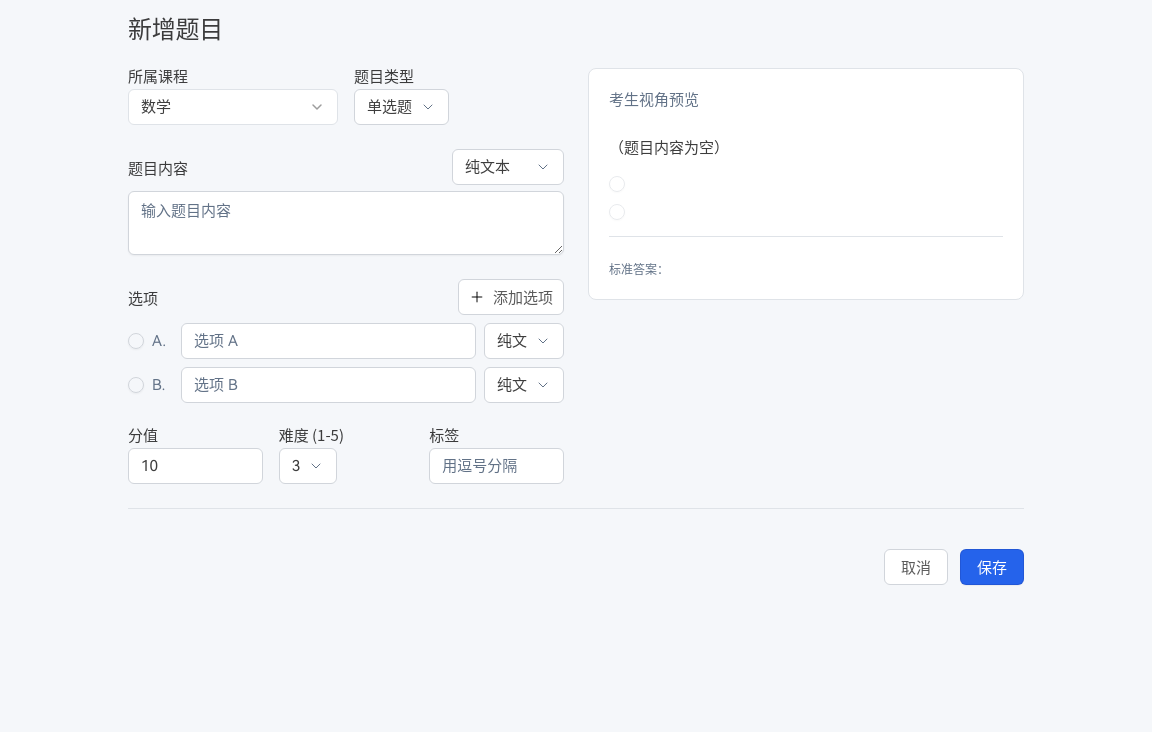
Test: QuestionEditPage — text_response authoring › text_response → single_choice: does not carry reference answer as objective answer
Click the dropdown named "题目类型". click: (402, 107)
box: [354, 89, 449, 125]
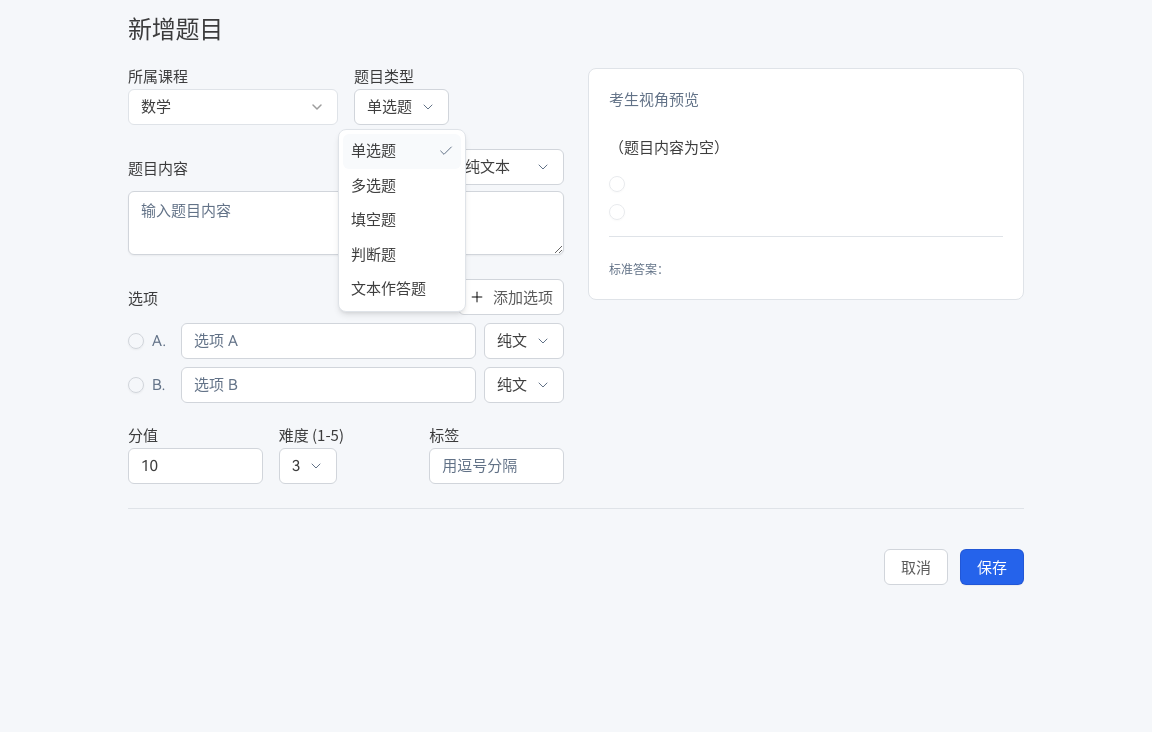
Click the option "文本作答题". click: (388, 289)
box: [351, 280, 426, 298]
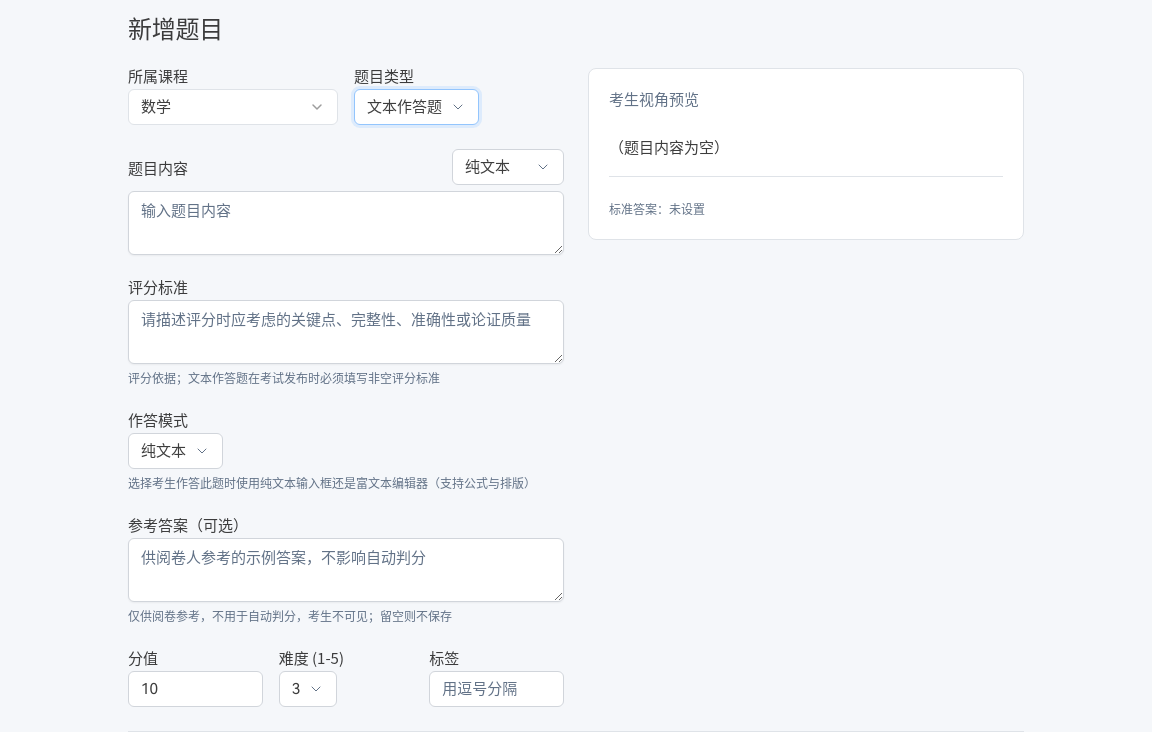
Type "参考答案文本" into the text box with placeholder "供阅卷人参考的示例答案，不影响自动判分". click: (346, 570)
box: [128, 538, 564, 602]
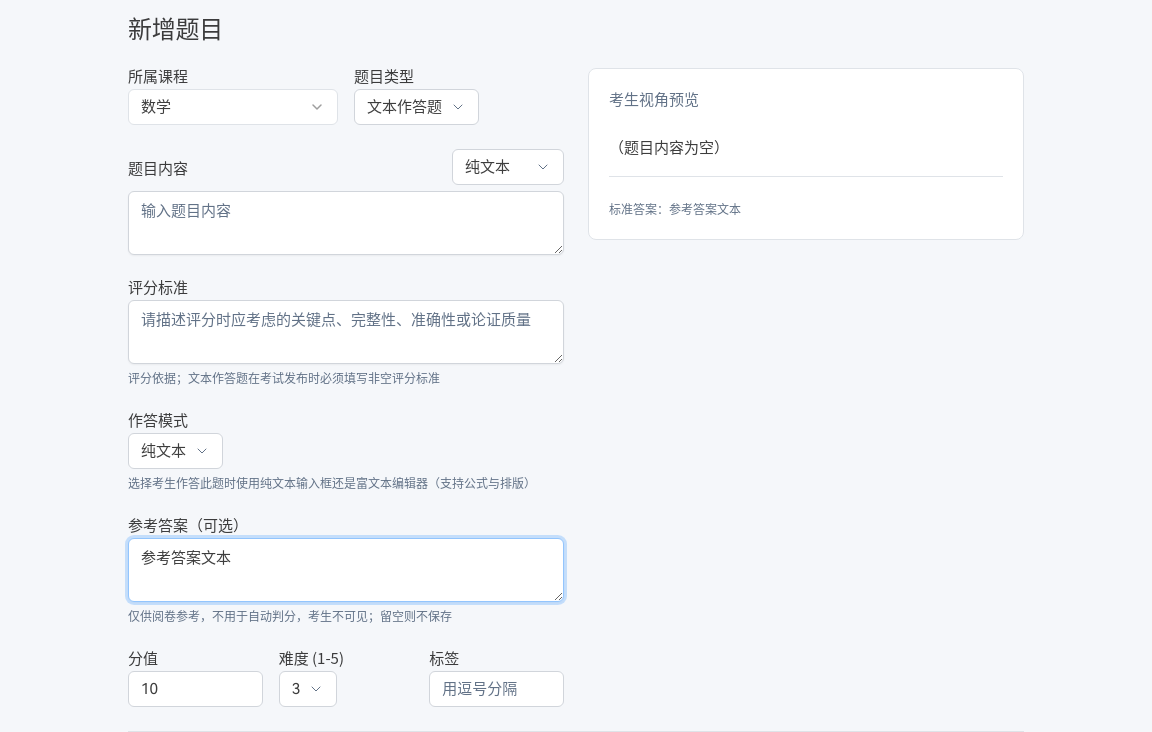
Click the dropdown named "题目类型". click: (416, 107)
box: [354, 89, 479, 125]
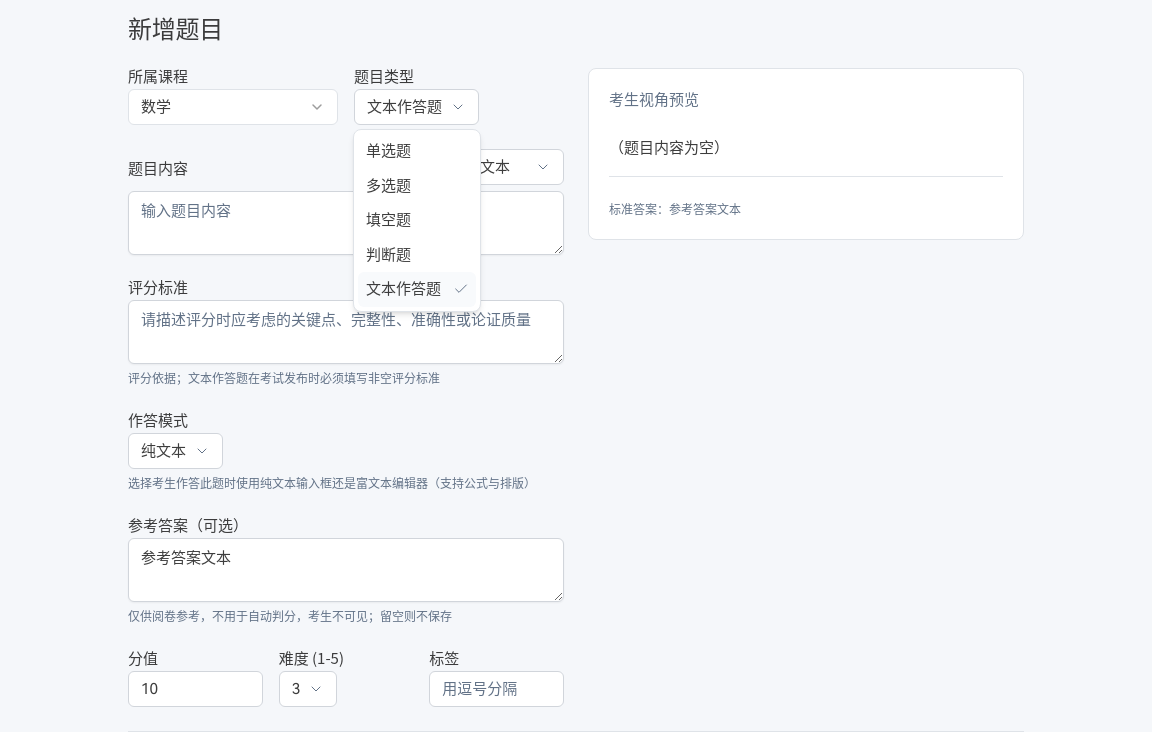
Click the option "单选题". click: (388, 151)
box: [366, 142, 411, 160]
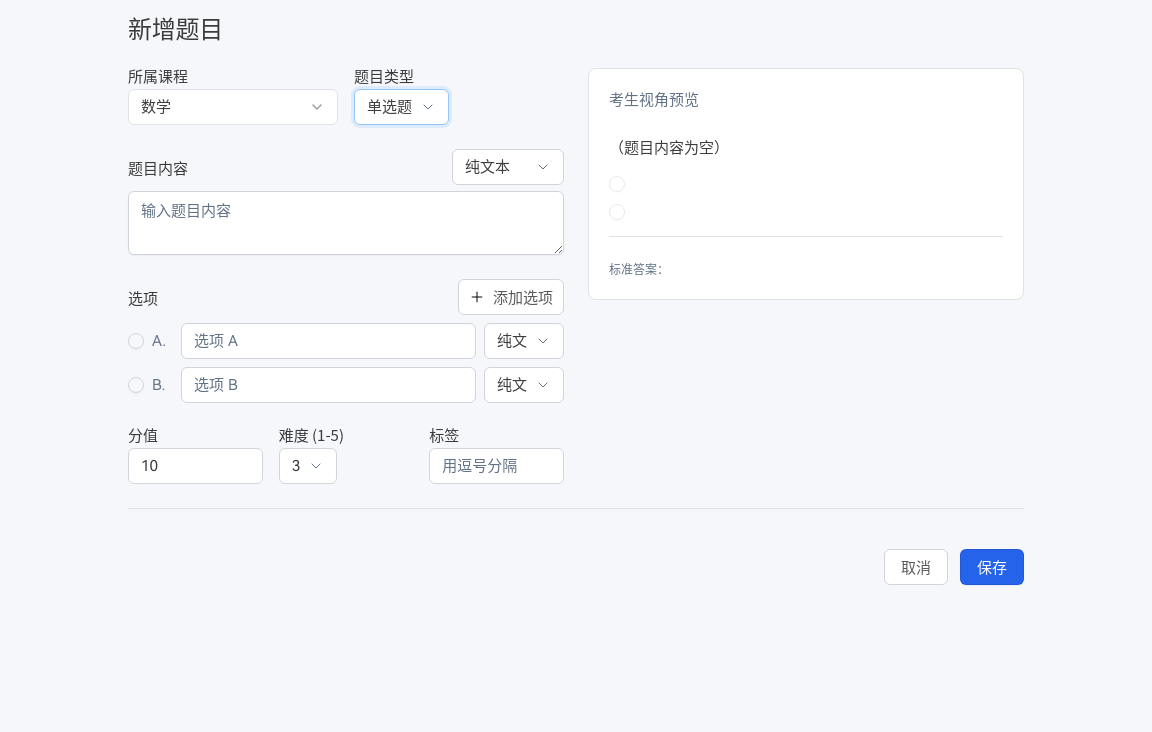
expect the text "参考答案文本" is gone: met
expect the text box with placeholder "供阅卷人参考的示例答案，不影响自动判分" is gone: met
